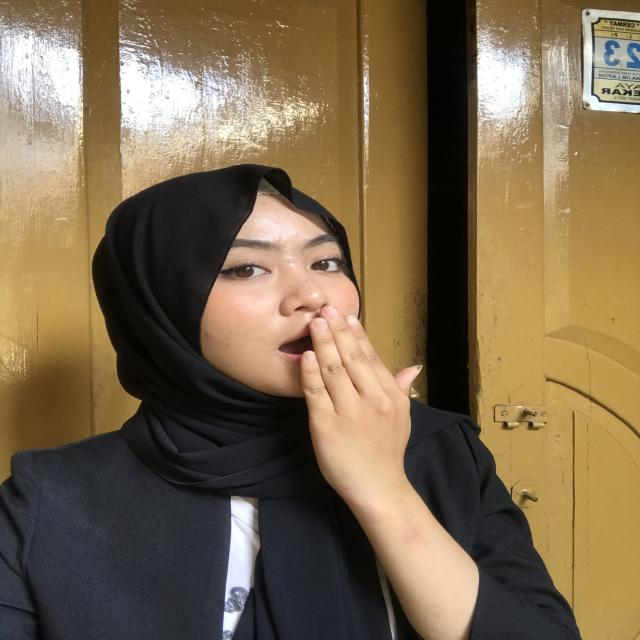ngantuk: (288, 300, 436, 493)
